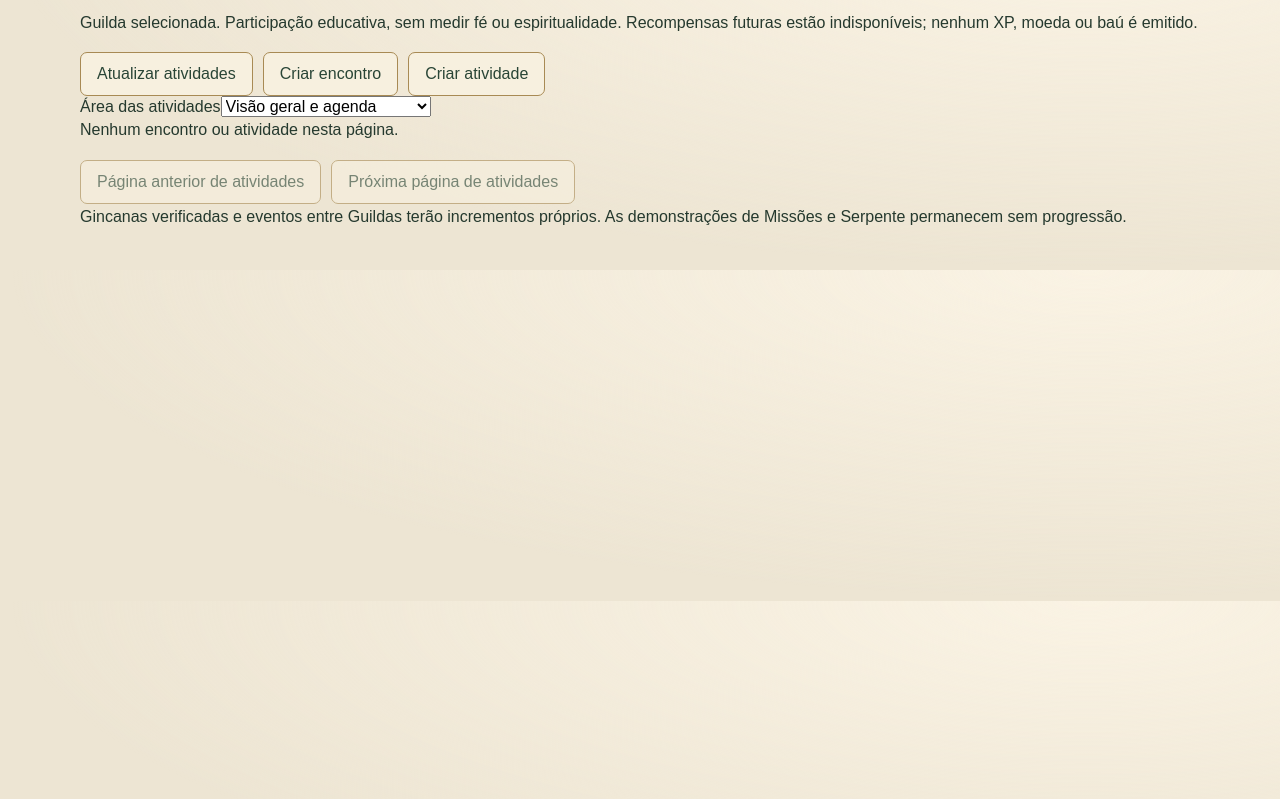
Test: community creation reuses MissionEditor but exposes no XP or chest-amount selector
What coordinates should you click on to do the following:
click the button "Criar encontro"
I would click on:
 (330, 74)
Its box is 263,52 -> 398,96.
(page scrolled)
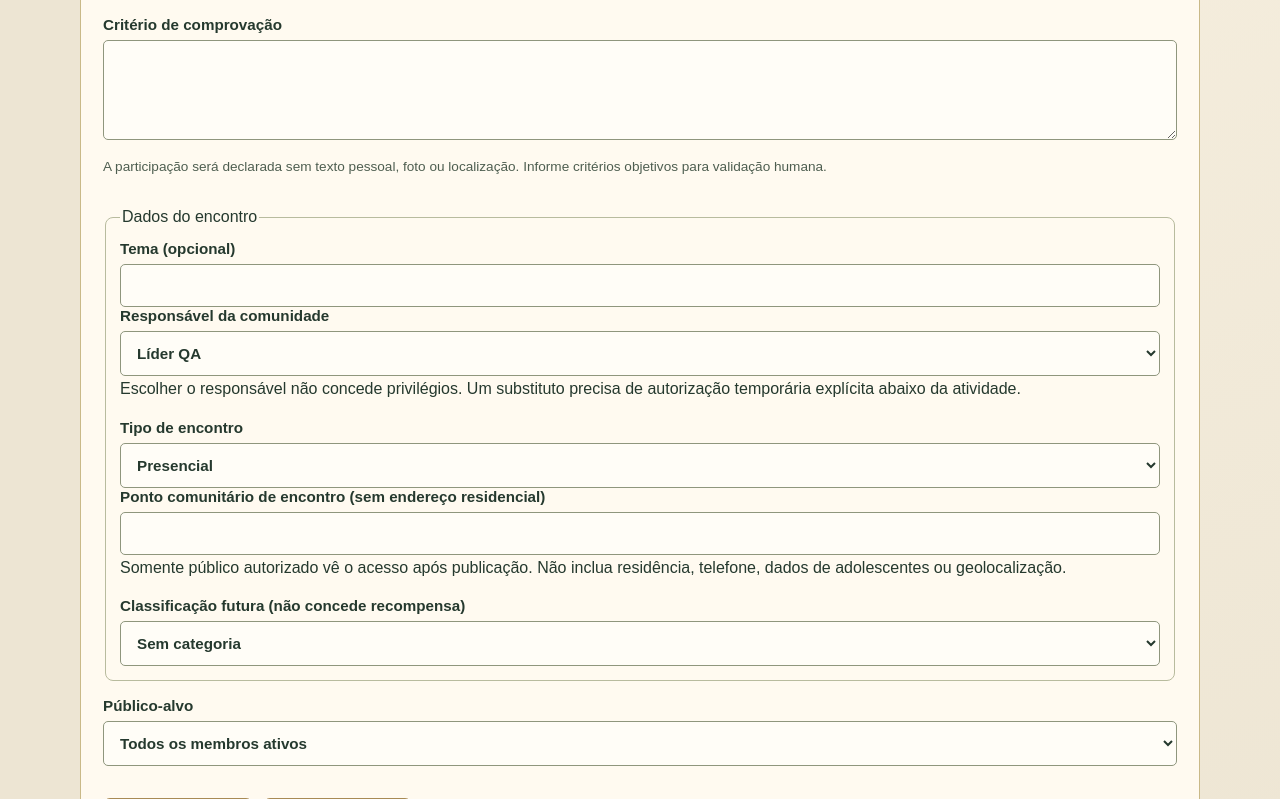
Result: the dropdown labelled "Classificação futura" is shown at 120,621 -> 1160,666
Result: the text "não concede privilégios" is shown at 120,380 -> 1021,397
